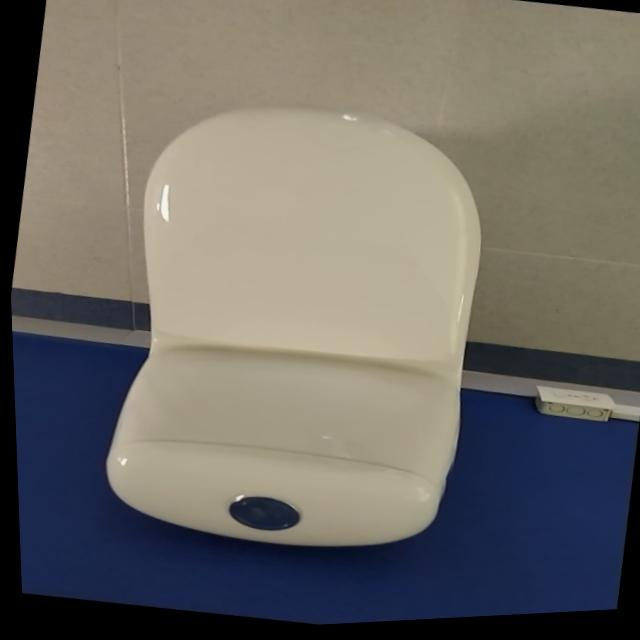toilet: (80, 77, 508, 581)
